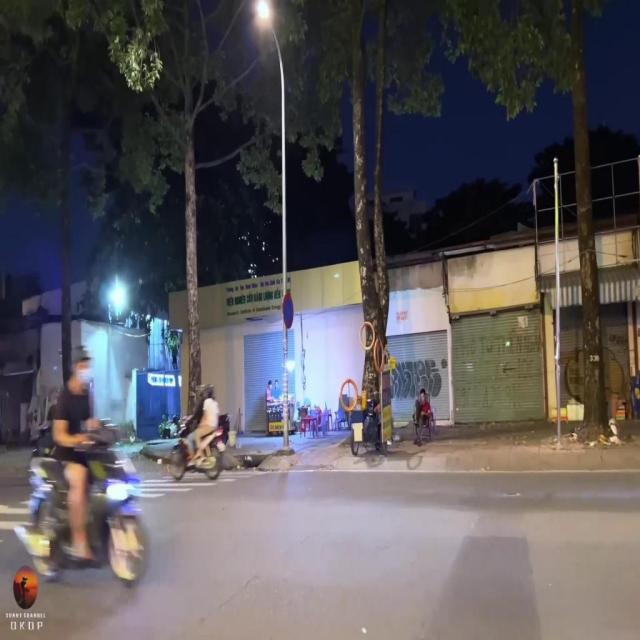cam_do_xe: (282, 294, 294, 329)
